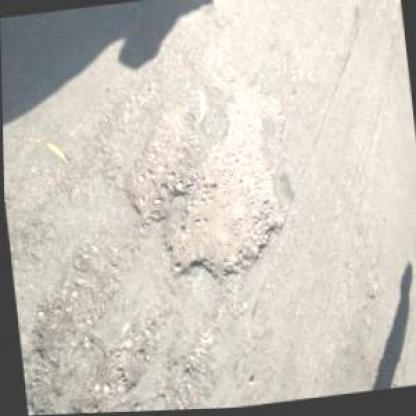pothole: (108, 61, 300, 294)
